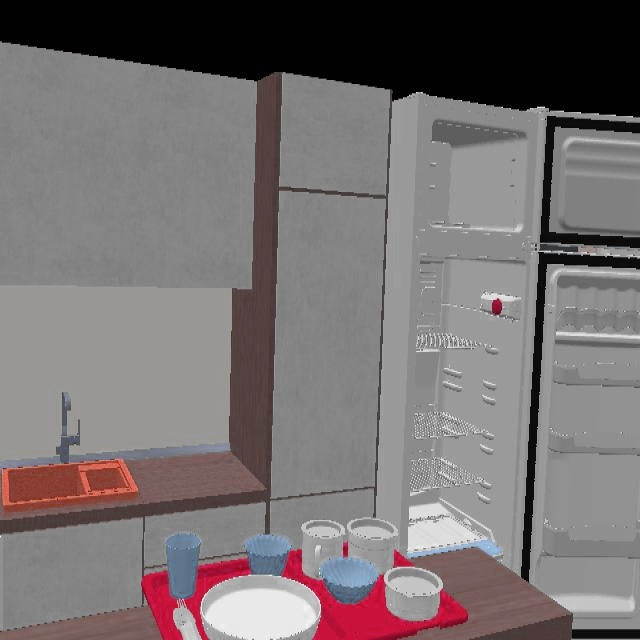cabinet: (0, 44, 414, 537)
countertop: (0, 452, 266, 531)
fridge: (378, 92, 640, 640)
sink: (0, 459, 141, 527)
